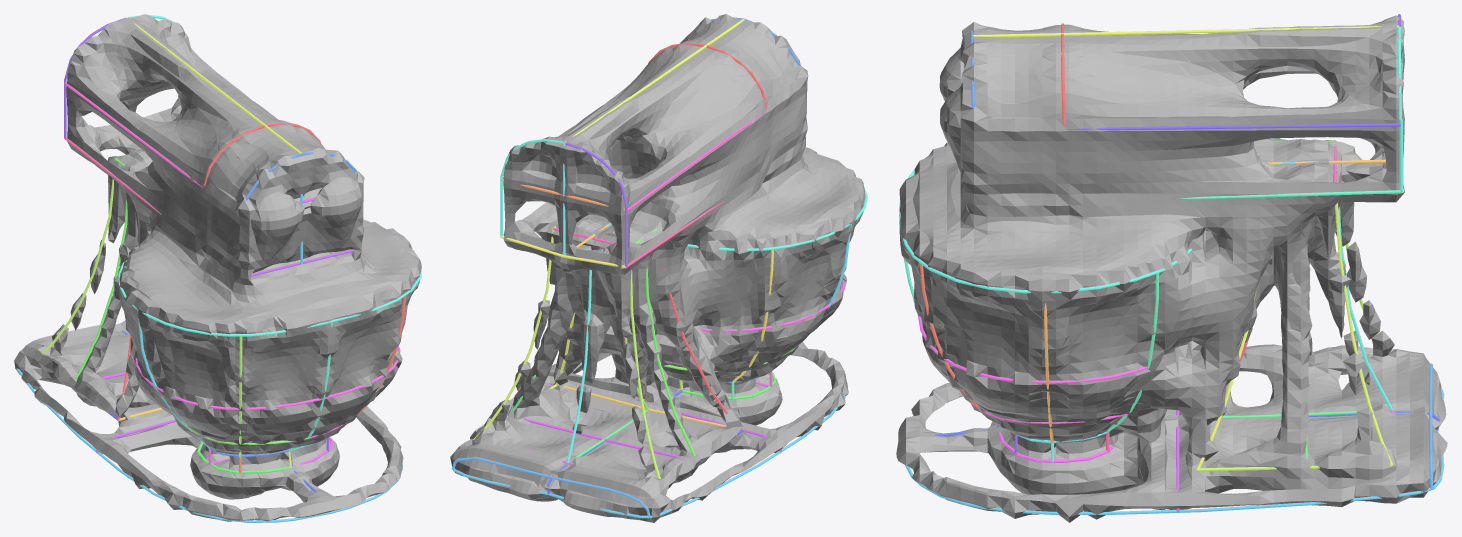
The model's file is t2f_blender.gltf.
3 views of the same model, side by side, from view 1: azimuth 30°, elevation 25°; view 2: azimuth 150°, elevation 25°; view 3: azimuth 270°, elevation 25° (orthographic). The views are drawn at different scales.
Bounding box in the file's own units: 0.4761 × 0.627 × 0.6833.
